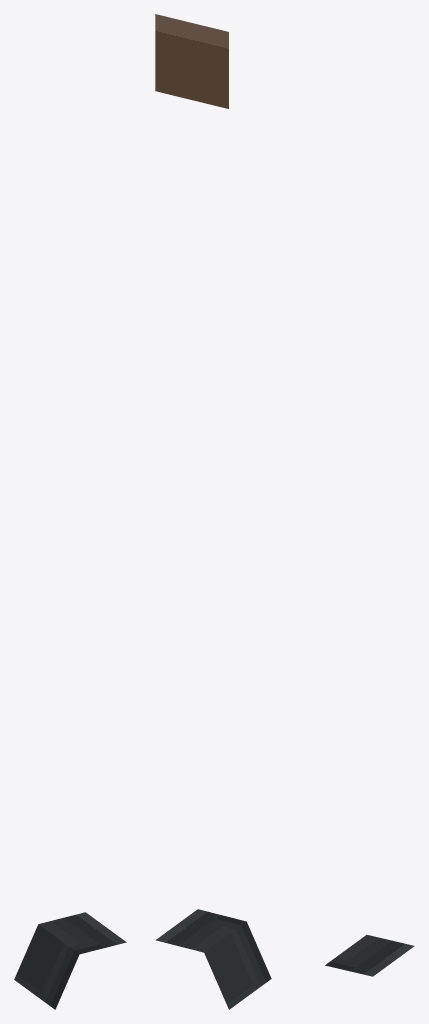
3 views of the same model, side by side, from view 1: azimuth 30°, elevation 25°; view 2: azimuth 150°, elevation 25°; view 3: azimuth 330°, elevation 25° (orthographic). The views are drawn at different scales.
Size of the model in its own units: 0.5 by 6.33 by 0.5.
Materials: 2 (2 with a texture image).
